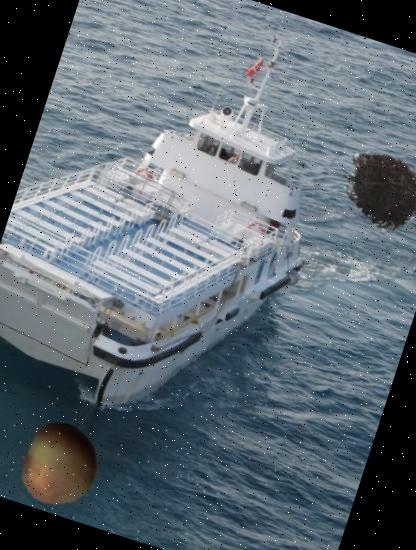Apple: (7, 412, 112, 518)
Rambutan: (329, 130, 416, 240)
